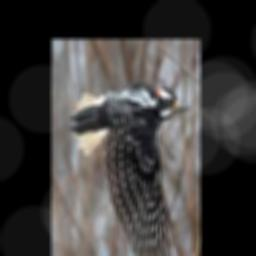Woodpecker: (68, 80, 190, 256)
